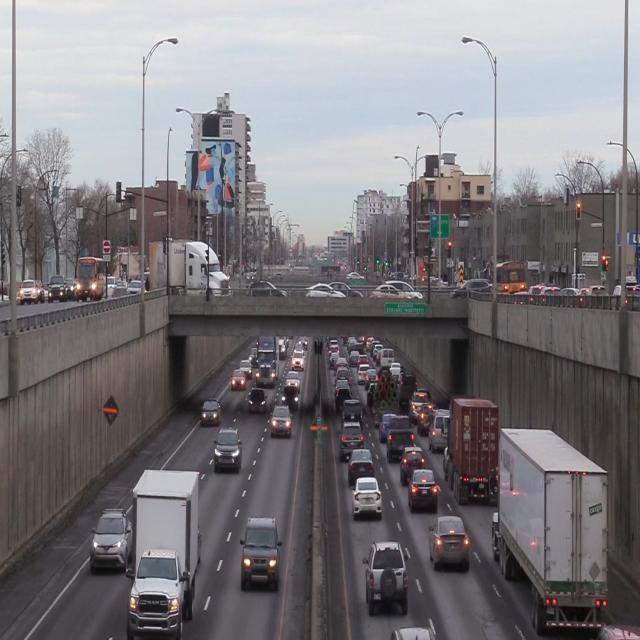Bus: (75, 256, 108, 301)
Car: (238, 514, 282, 590), (88, 507, 132, 573)
Traffic-light: (114, 180, 122, 202), (575, 200, 581, 220), (601, 256, 608, 271)
Truck: (491, 427, 609, 635), (126, 468, 202, 622)
